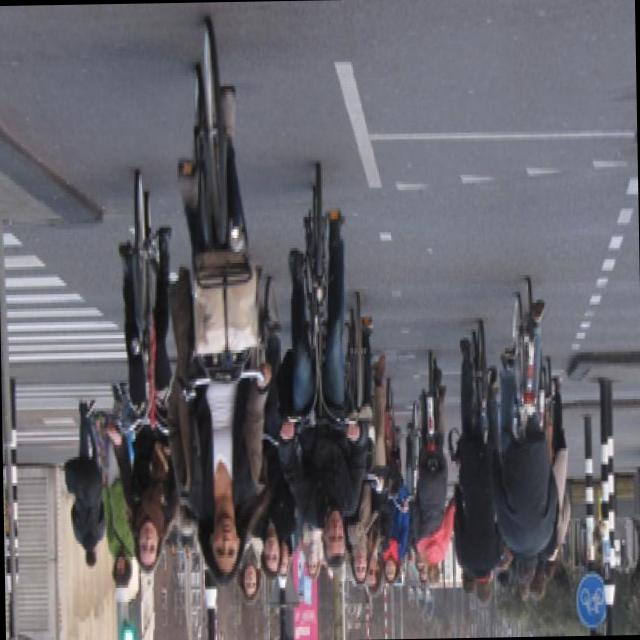bareface: (202, 509, 246, 594), (318, 499, 352, 578), (128, 516, 166, 585)
